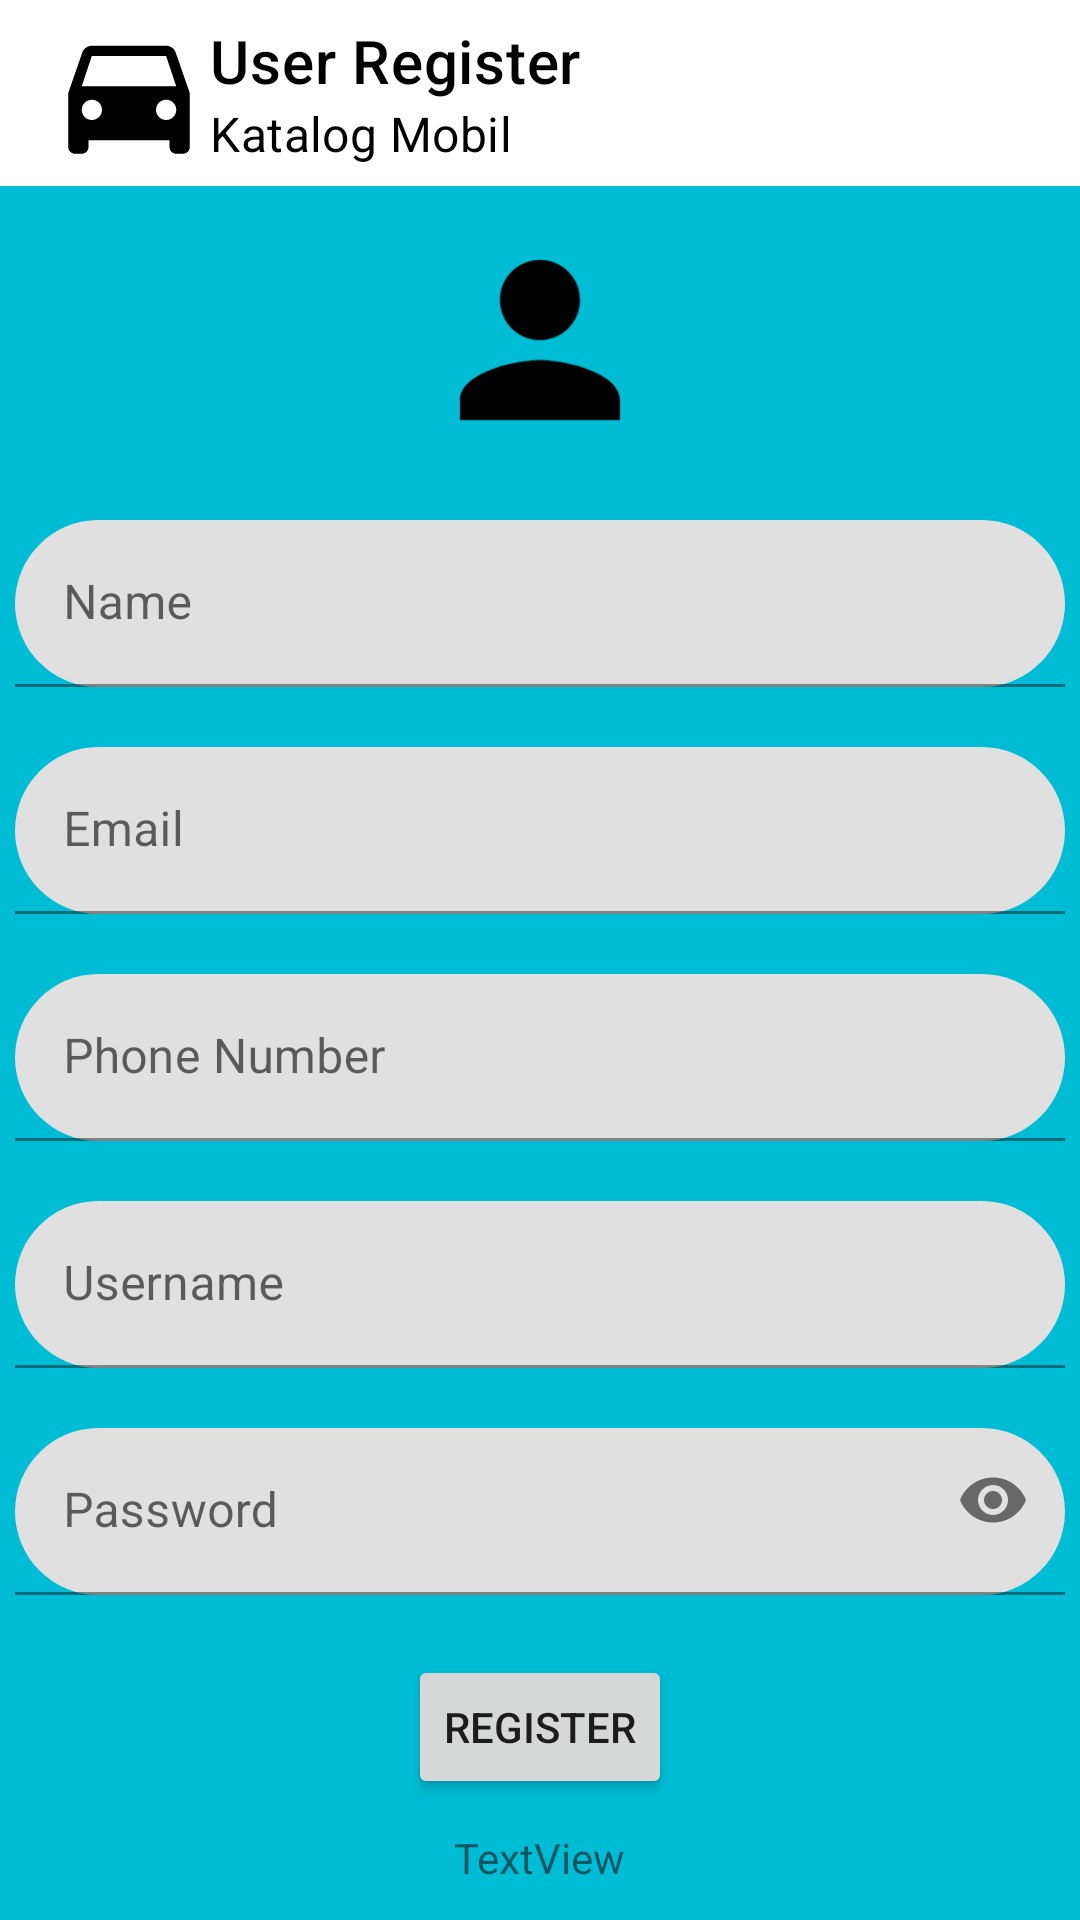

Where icons sit on this 1080x1920 app screen, as (x1, y1, x2, y2):
person: (459, 259, 621, 421)
